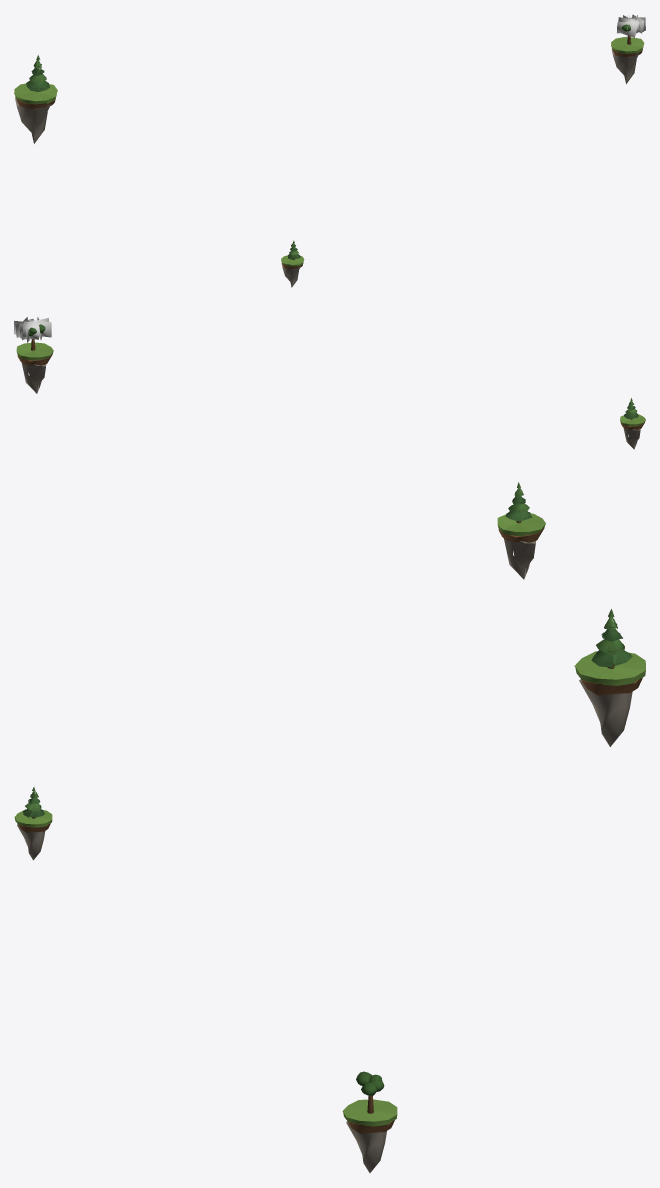
The model's file is g3d-islets.glb.
3 renders of one model, top to bottom at view 1: azimuth 30°, elevation 25°; view 2: azimuth 150°, elevation 25°; view 3: azimuth 270°, elevation 25°, orthographic. The views are drawn at different scales.
Visible parts, largest first — view 1: islets-kit, islets-foliage-0.016, islets-leaf-cards; view 2: islets-kit, islets-foliage-0.016, islets-leaf-cards; view 3: islets-kit, islets-foliage-0.016.
Boxes of the visible parts, x1,y1,x2,y2 form: islets-kit: (14, 37, 644, 287); islets-foliage-0.016: (26, 24, 639, 259); islets-leaf-cards: (617, 14, 645, 37); islets-kit: (16, 342, 645, 579); islets-foliage-0.016: (28, 324, 638, 523); islets-leaf-cards: (14, 317, 51, 342); islets-kit: (14, 651, 645, 1172); islets-foliage-0.016: (23, 609, 632, 1113).
Size of the model in its own units: 42.89 by 8.89 by 26.27.
